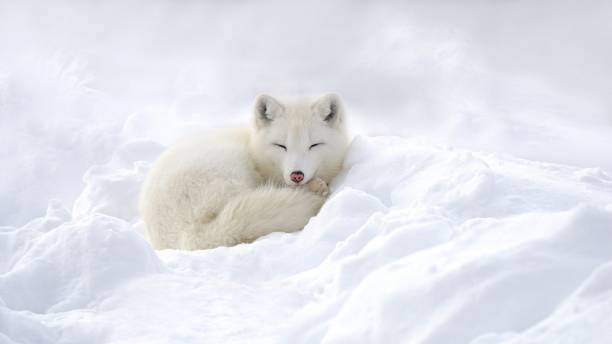arcticfox: (255, 122, 342, 204)
